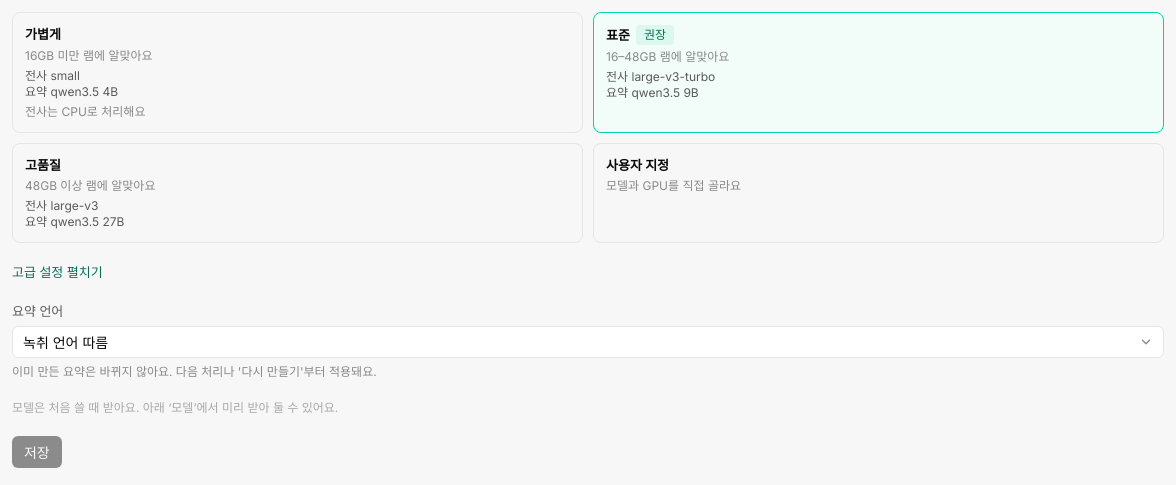
Test: 바뀐 것이 없으면 저장이 꺼져 있고, 바꾸면 켜지며 저장하지 않은 변경을 알린다
This screenshot has width=1176, height=485.
Expected: the radio button labelled "표준 권장 16–48GB 램에 알맞아요 전사 large-v3-turbo 요약 qwen3.5 9B" is shown, [593,12,1164,133]
Expected: the button "저장" is disabled, [12,436,62,468]
Click the radio button labelled "가볍게 16GB 미만 램에 알맞아요 전사 small 요약 qwen3.5 4B 전사는 CPU로 처리해요" at coordinates (43, 34), box [12,12,583,133]
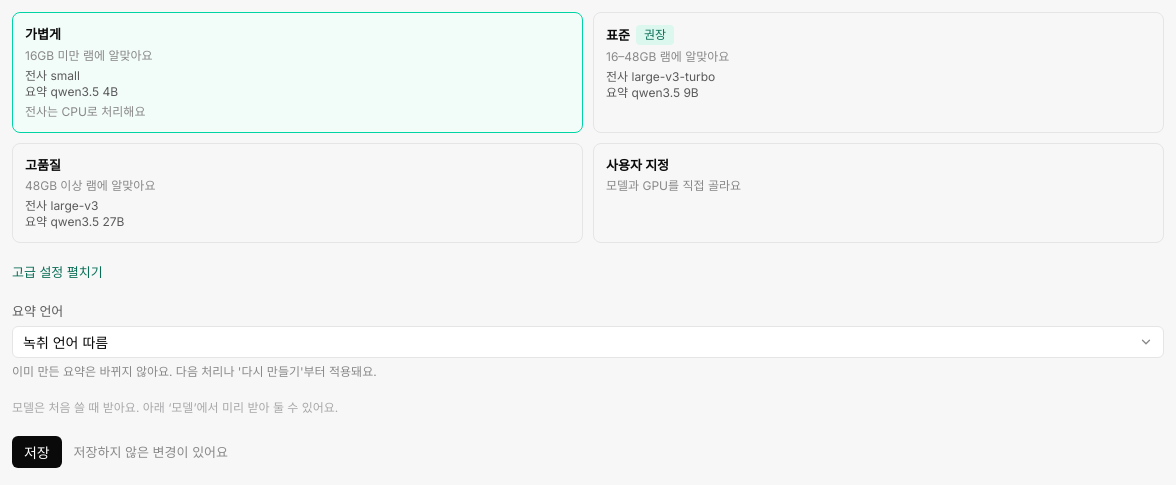
Expected: the button "저장" is enabled, [12,436,62,468]
Expected: the text "저장하지 않은 변경이 있어요" is shown, [74,443,228,462]
// 원래 프리셋으로 되돌리면 다시 변경 없음
Click the radio button labelled "표준 권장 16–48GB 램에 알맞아요 전사 large-v3-turbo 요약 qwen3.5 9B" at coordinates (655, 35), box [593,12,1164,133]
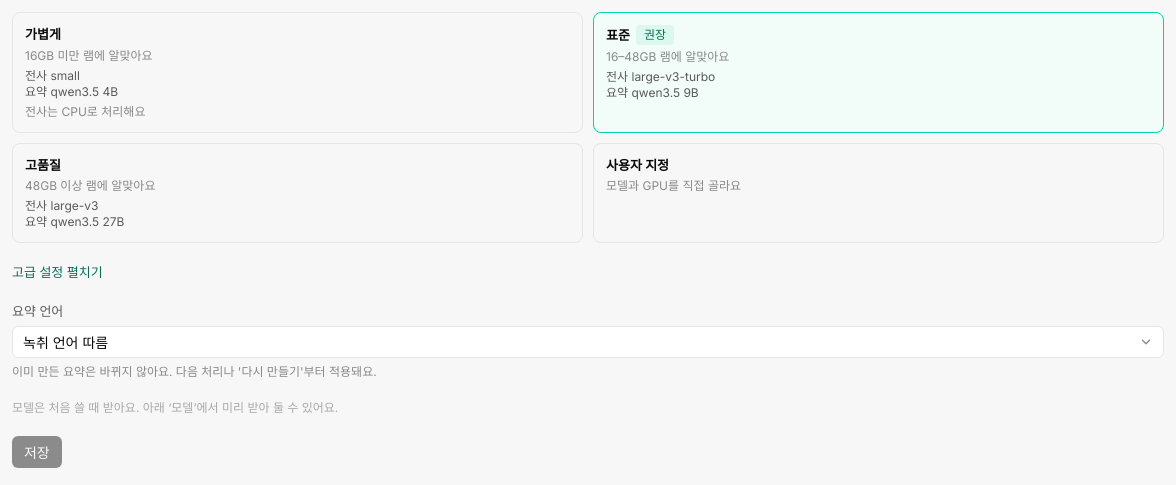
Expected: the button "저장" is disabled, [12,436,62,468]
Click the radio button labelled "가볍게 16GB 미만 램에 알맞아요 전사 small 요약 qwen3.5 4B 전사는 CPU로 처리해요" at coordinates (43, 34), box [12,12,583,133]
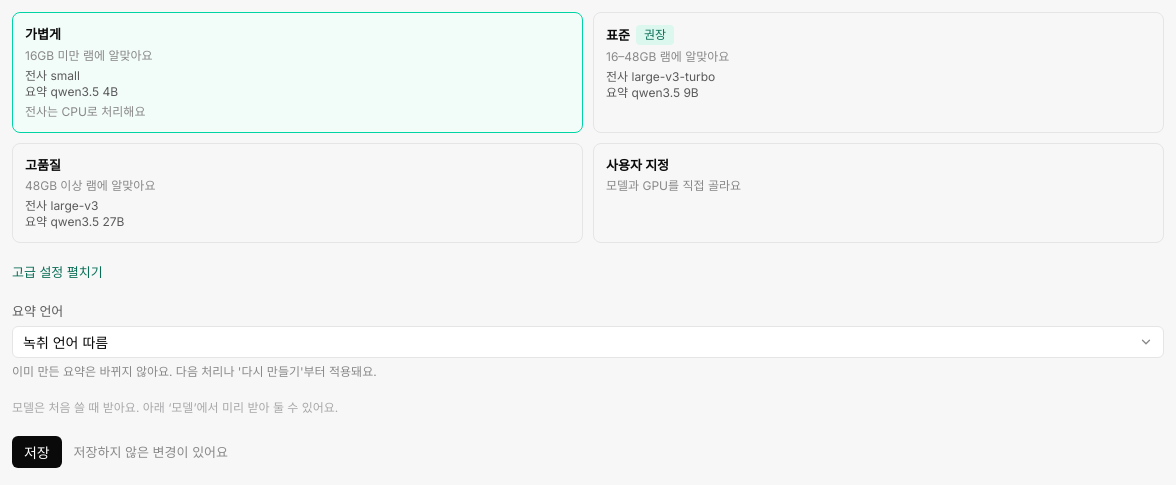
Click the button "저장" at coordinates (37, 452), box [12,436,62,468]
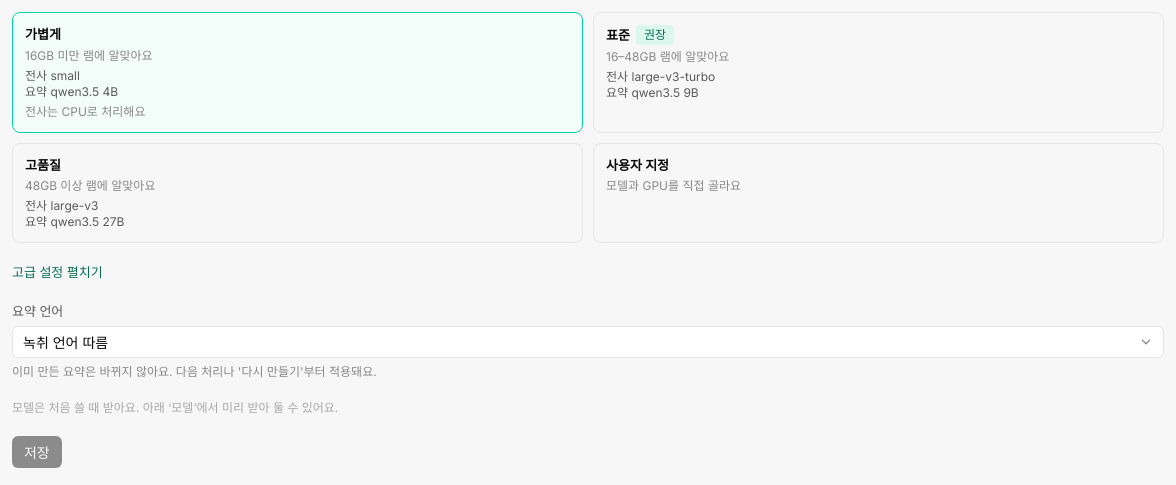
Expected: the button "저장" is disabled, [12,436,62,468]
Expected: the text "저장하지 않은 변경이 있어요" is gone
